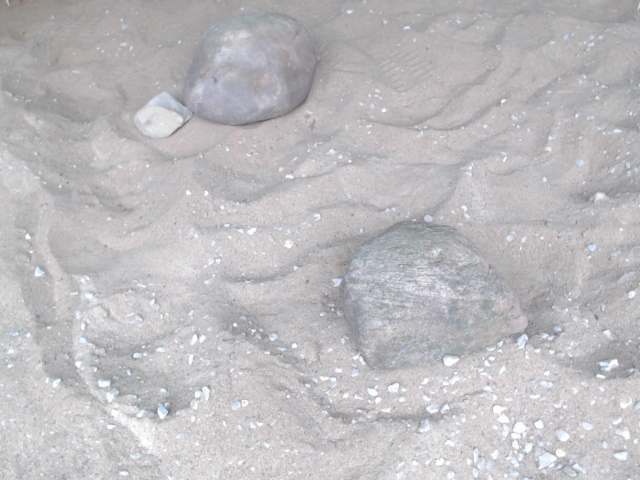rock: (335, 215, 533, 377), (180, 8, 323, 131), (130, 88, 199, 142)
